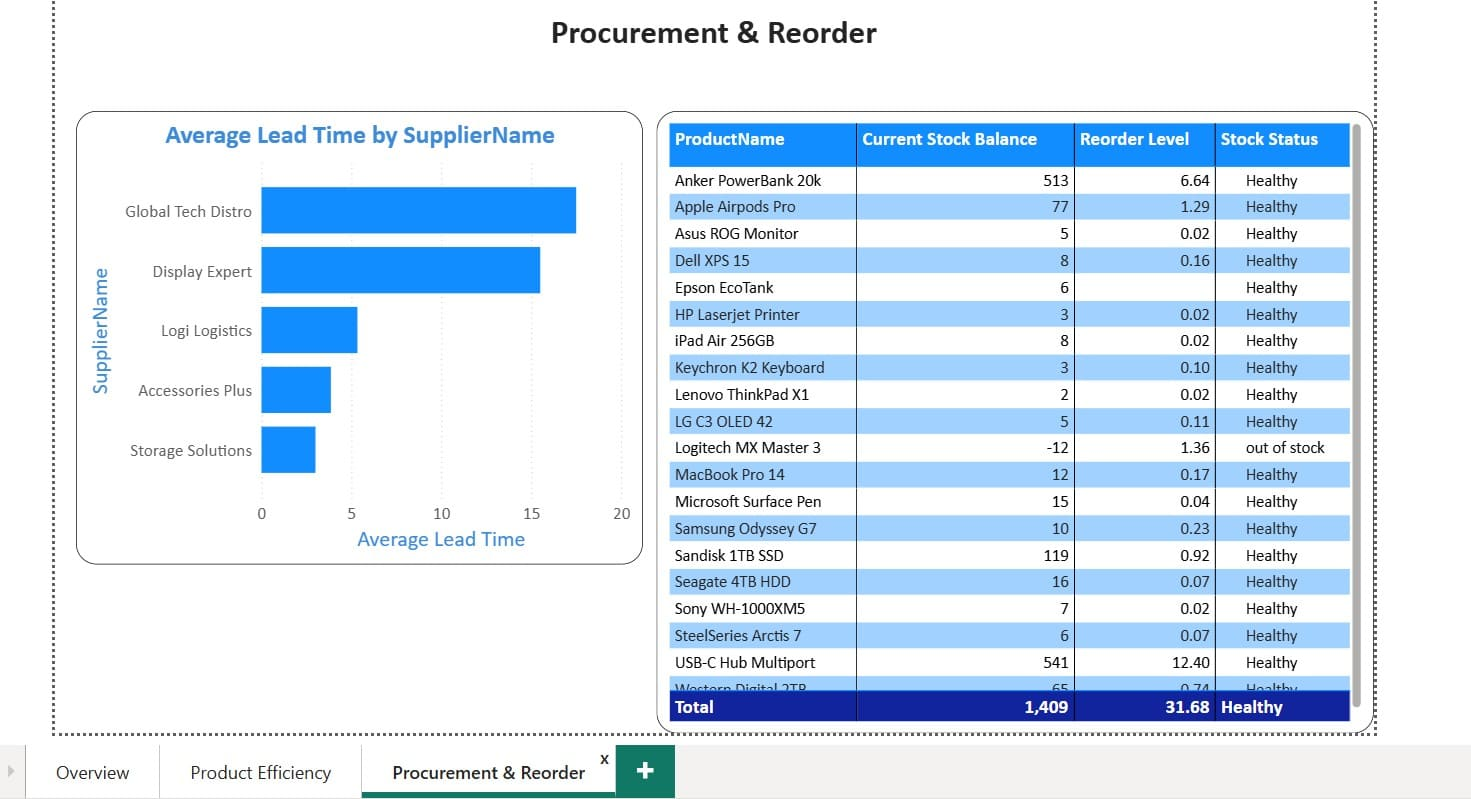

This screenshot's page, from the dashboard's own definition file:
{"tool":"powerbi","page":{"name":"Procurement & Reorder","canvas":[1280,720],"ordinal":2},"visuals":[{"type":"tableEx","fields":{"Values":["Products.ProductName","Fact_Inventory_Movements.Current Stock Balance","Fact_Inventory_Movements.Reorder Level","Fact_Inventory_Movements.Stock Status"]},"box":[584,116,696,604],"z":0},{"type":"clusteredBarChart","fields":{"Category":["Suppliers.SupplierName"],"Y":["Fact_Inventory_Movements.Average Lead Time"]},"box":[20,116,550,440],"z":1},{"type":"textbox","box":[464,14,428,72],"z":2}]}

Visuals, with their boxes on the page's 1280x720 design canvas (x1, y1, x2, y2). These are canvas units, not pixel positions in the 1471x799 screenshot, which may show the page scaled, cropped or inside an application window:
tableEx - Products.ProductName x Fact_Inventory_Movements.Current Stock Balance: x1=584 y1=116 x2=1280 y2=720
clusteredBarChart - Suppliers.SupplierName x Fact_Inventory_Movements.Average Lead Time: x1=20 y1=116 x2=570 y2=556
textbox: x1=464 y1=14 x2=892 y2=86
